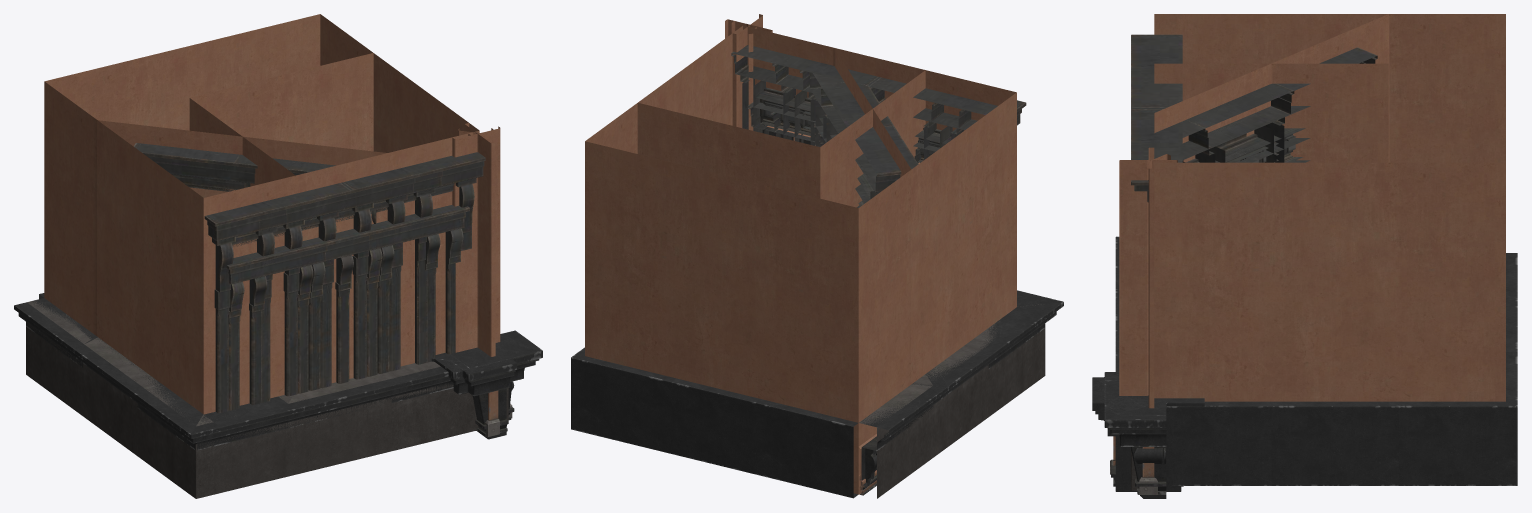
Rendered from facade.glb.
3 renders of one model, left to right at view 1: azimuth 30°, elevation 25°; view 2: azimuth 150°, elevation 25°; view 3: azimuth 270°, elevation 25°, orthographic. The views are drawn at different scales.
Visible parts, largest first — view 1: wall_standard_corner_large_01, wall_standard_corner_large_02, base_corner_large_01, wall_door_angled_large_01, wall_standard_corner_small_02, base_standard_01, wall_standard_angled_large_01, door_centered_small_01, wall_pier_corner_02, window_centered_large_02, crown_standard_corner_large_01, door_centered_large_01 (+31 smaller); view 2: wall_standard_corner_large_02, wall_standard_corner_large_01, crown_standard_corner_large_02, base_corner_large_01, wall_standard_corner_small_02, wall_door_angled_large_01, wall_standard_angled_large_01, crown_standard_corner_large_01, door_window_small_03, door_angled_large_01, wall_standard_corner_small_01, door_window_small_04 (+17 smaller); view 3: wall_standard_corner_small_02, wall_standard_corner_large_02, crown_standard_corner_small_02, wall_window_angled_large_01, wall_standard_corner_large_01, crown_standard_corner_large_02, wall_window_angled_large_02, wall_pier_corner_02, wall_standard_corner_small_01, door_angled_large_01, door_angled_small_01, wall_door_angled_small_01 (+13 smaller).
Boxes of the visible parts, bbox=[...] form: wall_standard_corner_large_01: bbox=[44, 81, 479, 413]; wall_standard_corner_large_02: bbox=[45, 14, 479, 152]; base_corner_large_01: bbox=[26, 300, 391, 498]; wall_door_angled_large_01: bbox=[44, 88, 477, 366]; wall_standard_corner_small_02: bbox=[190, 53, 373, 151]; base_standard_01: bbox=[214, 397, 391, 494]; wall_standard_angled_large_01: bbox=[44, 89, 463, 358]; door_centered_small_01: bbox=[283, 174, 419, 396]; wall_pier_corner_02: bbox=[452, 134, 495, 356]; window_centered_large_02: bbox=[249, 214, 446, 404]; crown_standard_corner_large_01: bbox=[14, 298, 418, 450]; door_centered_large_01: bbox=[255, 167, 447, 402]; wall_standard_corner_large_02: bbox=[585, 26, 858, 494]; wall_standard_corner_large_01: bbox=[858, 92, 1016, 494]; crown_standard_corner_large_02: bbox=[571, 347, 858, 498]; base_corner_large_01: bbox=[877, 304, 1045, 498]; wall_standard_corner_small_02: bbox=[637, 103, 820, 198]; wall_door_angled_large_01: bbox=[743, 25, 910, 493]; wall_standard_angled_large_01: bbox=[851, 78, 910, 492]; crown_standard_corner_large_01: bbox=[861, 290, 1063, 482]; door_window_small_03: bbox=[731, 45, 939, 151]; door_angled_large_01: bbox=[820, 82, 918, 206]; wall_standard_corner_small_01: bbox=[820, 70, 925, 201]; door_window_small_04: bbox=[747, 77, 1026, 162]; wall_standard_corner_small_02: bbox=[1154, 162, 1388, 401]; wall_standard_corner_large_02: bbox=[1179, 162, 1505, 401]; crown_standard_corner_small_02: bbox=[1166, 406, 1398, 485]; wall_window_angled_large_01: bbox=[1154, 14, 1505, 162]; wall_standard_corner_large_01: bbox=[1154, 14, 1449, 162]; crown_standard_corner_large_02: bbox=[1204, 253, 1517, 485]; wall_window_angled_large_02: bbox=[1182, 14, 1505, 162]; wall_pier_corner_02: bbox=[1119, 147, 1154, 395]; wall_standard_corner_small_01: bbox=[1154, 63, 1348, 162]; door_angled_large_01: bbox=[1187, 47, 1377, 162]; door_angled_small_01: bbox=[1182, 83, 1294, 162]; wall_door_angled_small_01: bbox=[1154, 63, 1388, 162].
Size of the model in its own units: 3.78 by 3.06 by 3.63.
Materials: 5 (5 with a texture image).
